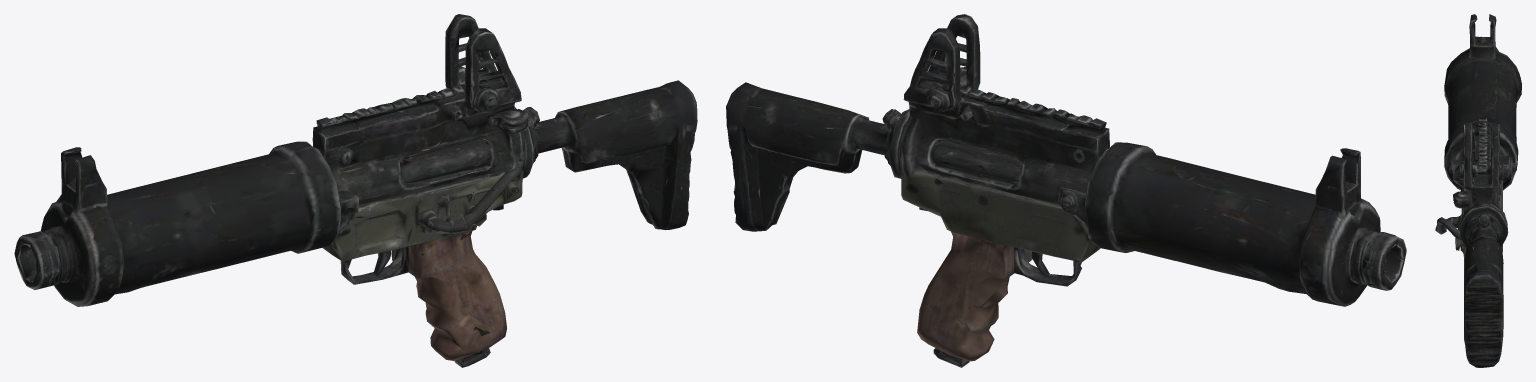
The model's file is gun_thumper.glb.
3 views of the same model, side by side, from view 1: azimuth 30°, elevation 25°; view 2: azimuth 150°, elevation 25°; view 3: azimuth 270°, elevation 25° (orthographic). The views are drawn at different scales.
Size of the model in its own units: 1.9 by 0.9348 by 0.3127.
Materials: 1 (1 with a texture image).
